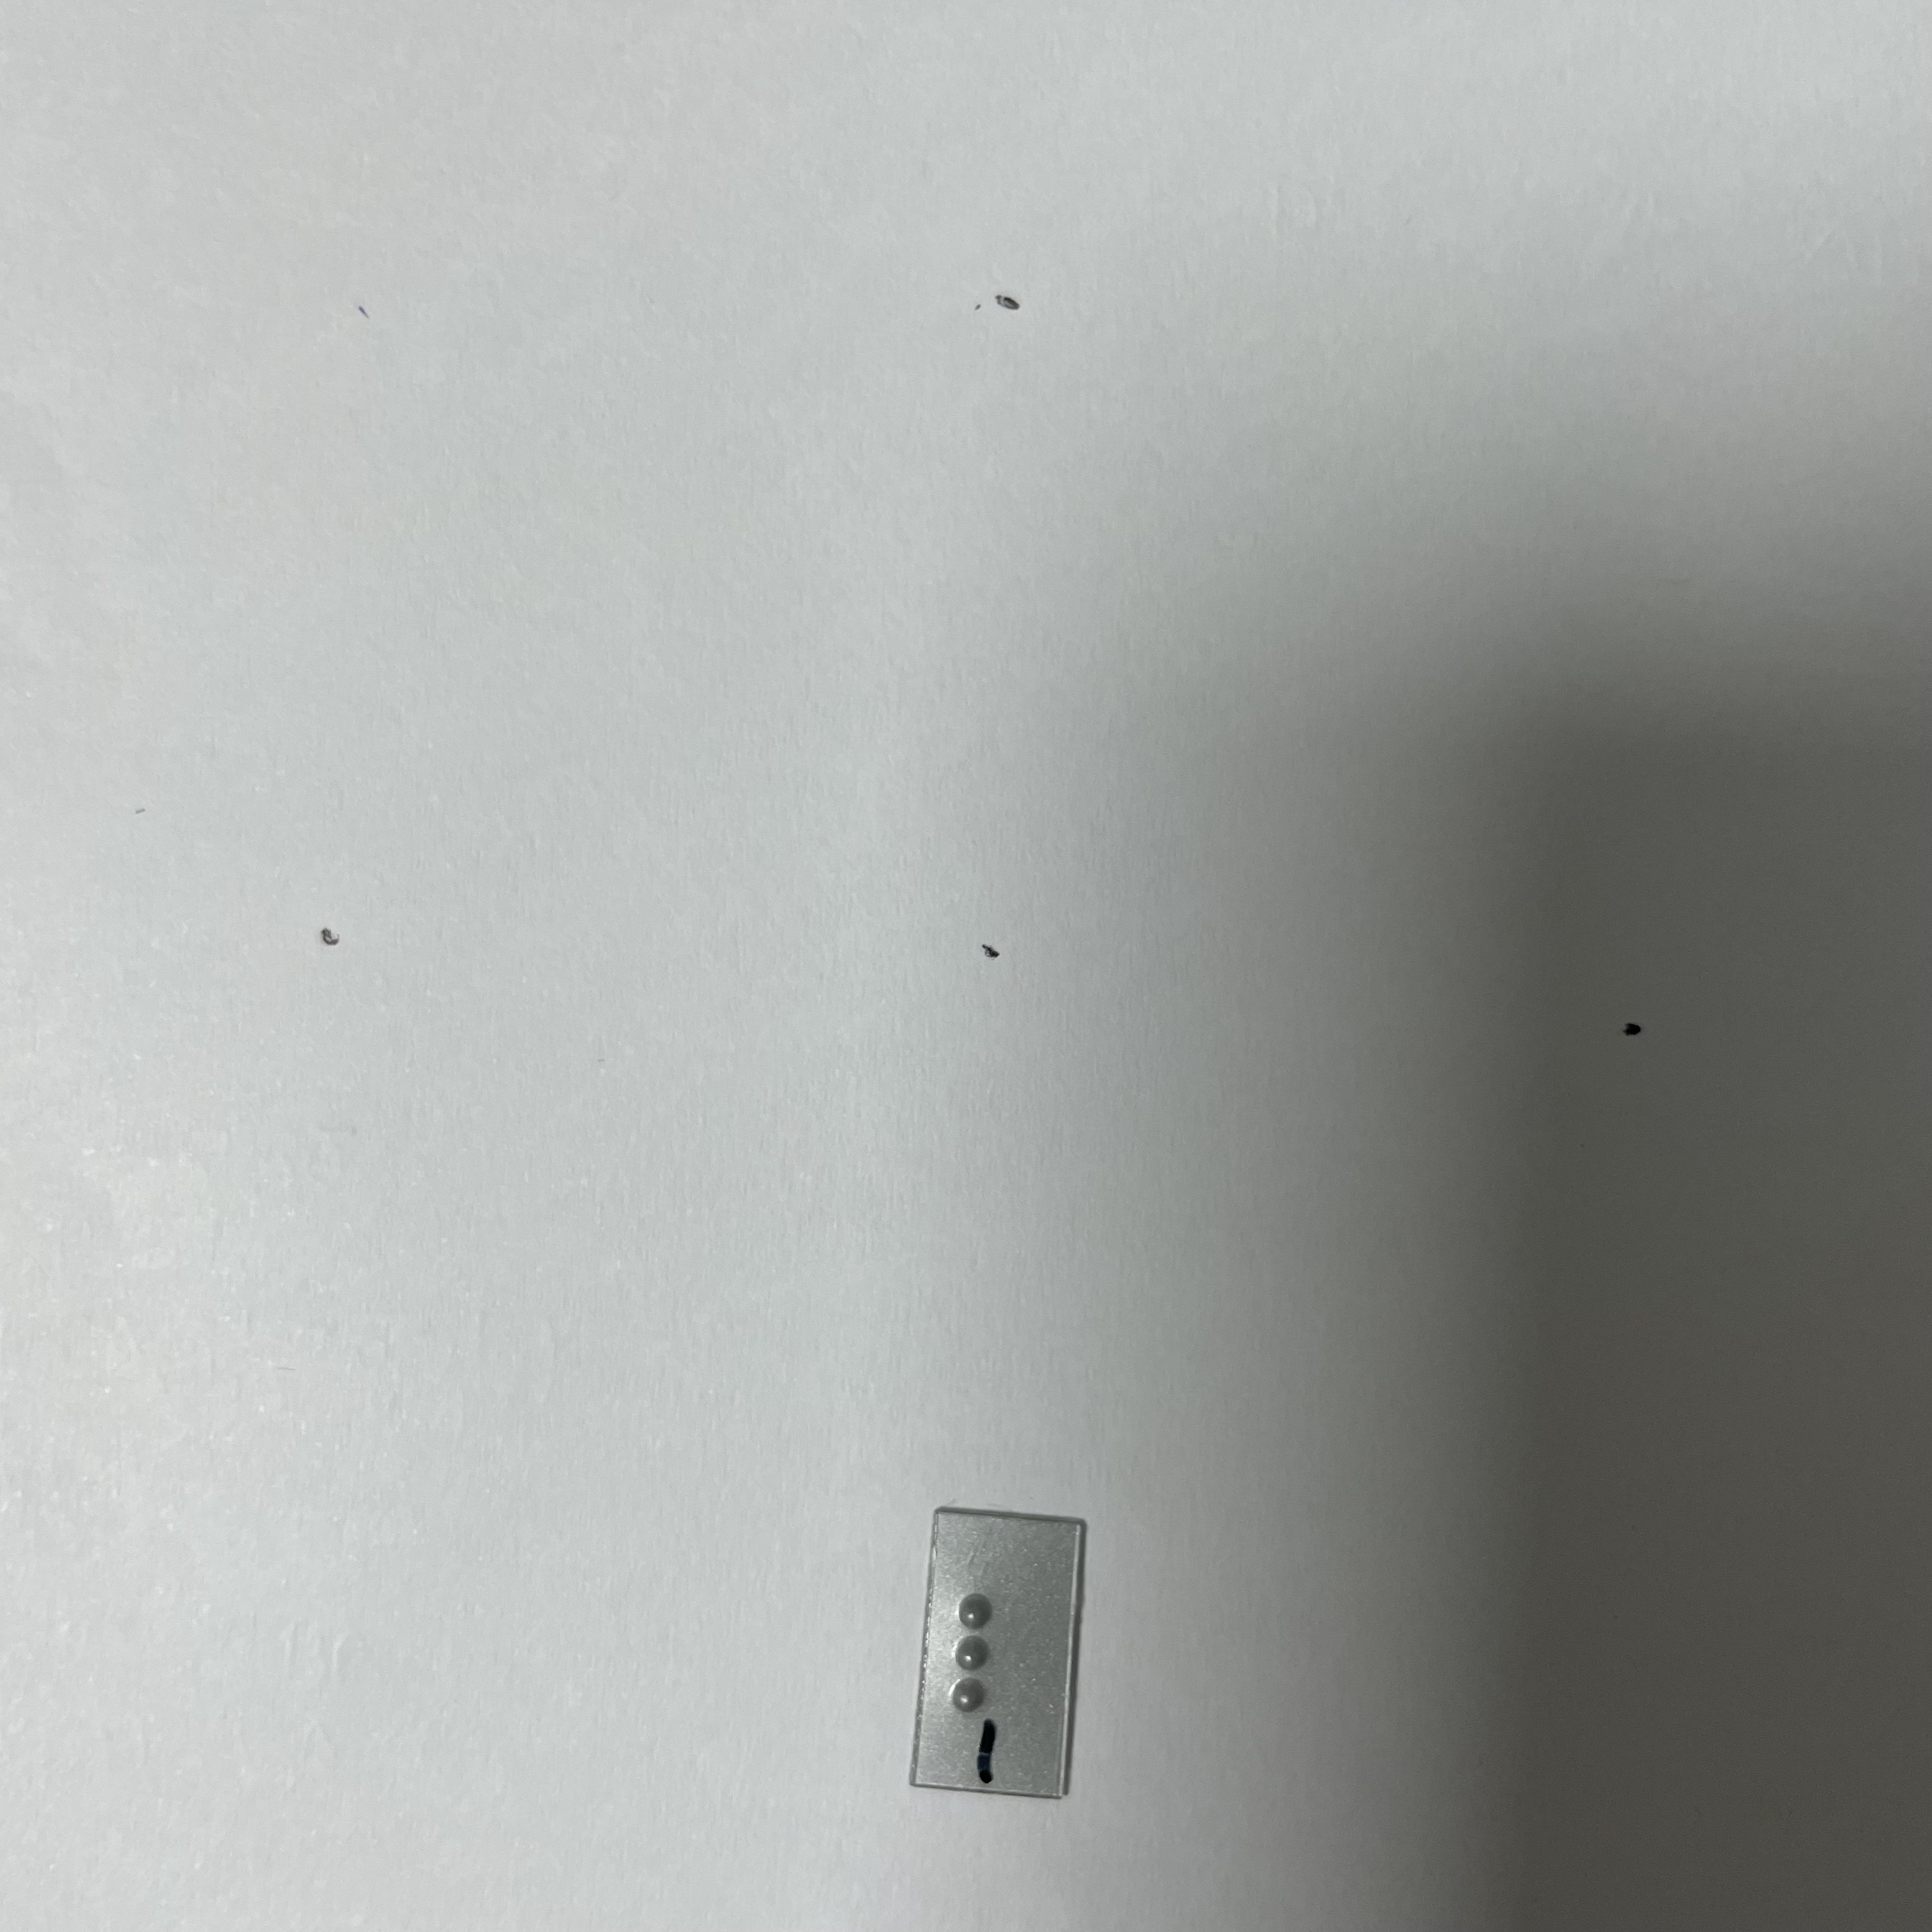l: (944, 1574, 1048, 1721)
